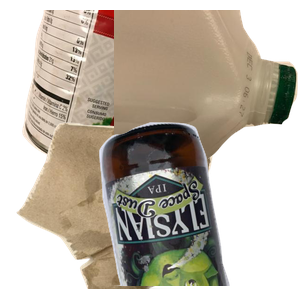glass: (97, 120, 300, 300)
metal: (20, 10, 199, 172)
plastic: (114, 10, 300, 179)
trash: (14, 120, 222, 300)
